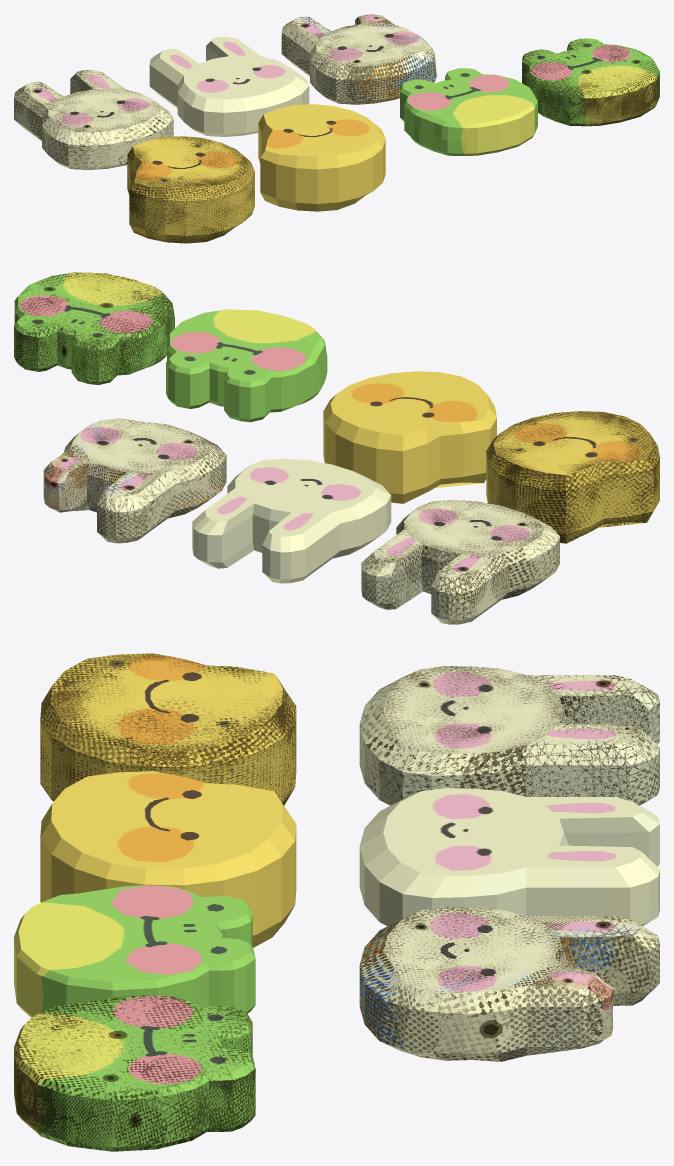
The model's file is Erasers4TEST.fbx.
3 renders of one model, top to bottom at view 1: azimuth 30°, elevation 25°; view 2: azimuth 150°, elevation 25°; view 3: azimuth 270°, elevation 25°, orthographic. The views are drawn at different scales.
Visible parts, largest first — view 1: E_SmileClean, E_SmileDirty, E_Bunny1Dirty, E_Bunny1Clean, E_Bunny2, E_FrogClean, E_FrogDirty; view 2: E_SmileDirty, E_SmileClean, E_Bunny1Clean, E_Bunny1Dirty, E_Bunny2, E_FrogClean, E_FrogDirty; view 3: E_Bunny2, E_Bunny1Dirty, E_Bunny1Clean, E_FrogDirty, E_SmileDirty, E_SmileClean, E_FrogClean.
Part boxes in pixels (left/top/right/bottom): E_SmileClean: left=258, top=104, right=385, bottom=211; E_SmileDirty: left=127, top=136, right=254, bottom=243; E_Bunny1Dirty: left=14, top=70, right=173, bottom=169; E_Bunny1Clean: left=149, top=36, right=309, bottom=136; E_Bunny2: left=281, top=14, right=436, bottom=104; E_FrogClean: left=400, top=68, right=537, bottom=155; E_FrogDirty: left=522, top=38, right=659, bottom=126; E_SmileDirty: left=486, top=411, right=659, bottom=543; E_SmileClean: left=323, top=371, right=496, bottom=503; E_Bunny1Clean: left=192, top=458, right=391, bottom=583; E_Bunny1Dirty: left=361, top=500, right=559, bottom=624; E_Bunny2: left=43, top=418, right=226, bottom=543; E_FrogClean: left=166, top=309, right=327, bottom=422; E_FrogDirty: left=14, top=272, right=174, bottom=384; E_Bunny2: left=359, top=907, right=659, bottom=1061; E_Bunny1Dirty: left=359, top=666, right=659, bottom=805; E_Bunny1Clean: left=359, top=788, right=659, bottom=926; E_FrogDirty: left=14, top=995, right=255, bottom=1151; E_SmileDirty: left=40, top=653, right=296, bottom=805; E_SmileClean: left=40, top=771, right=296, bottom=947; E_FrogClean: left=14, top=885, right=255, bottom=1017.
Bounding box in the file's own units: 500 × 55.41 × 295.
7 materials, 7 textured.
